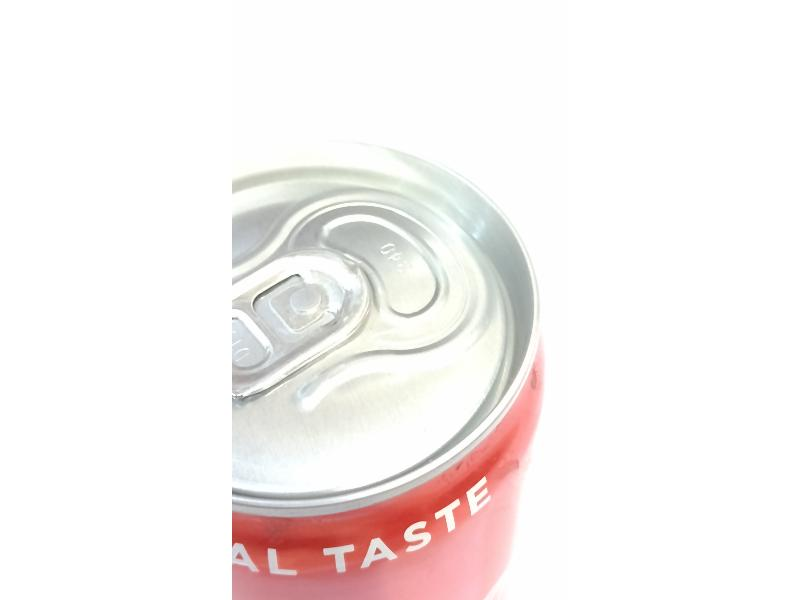can: (230, 121, 547, 600)
